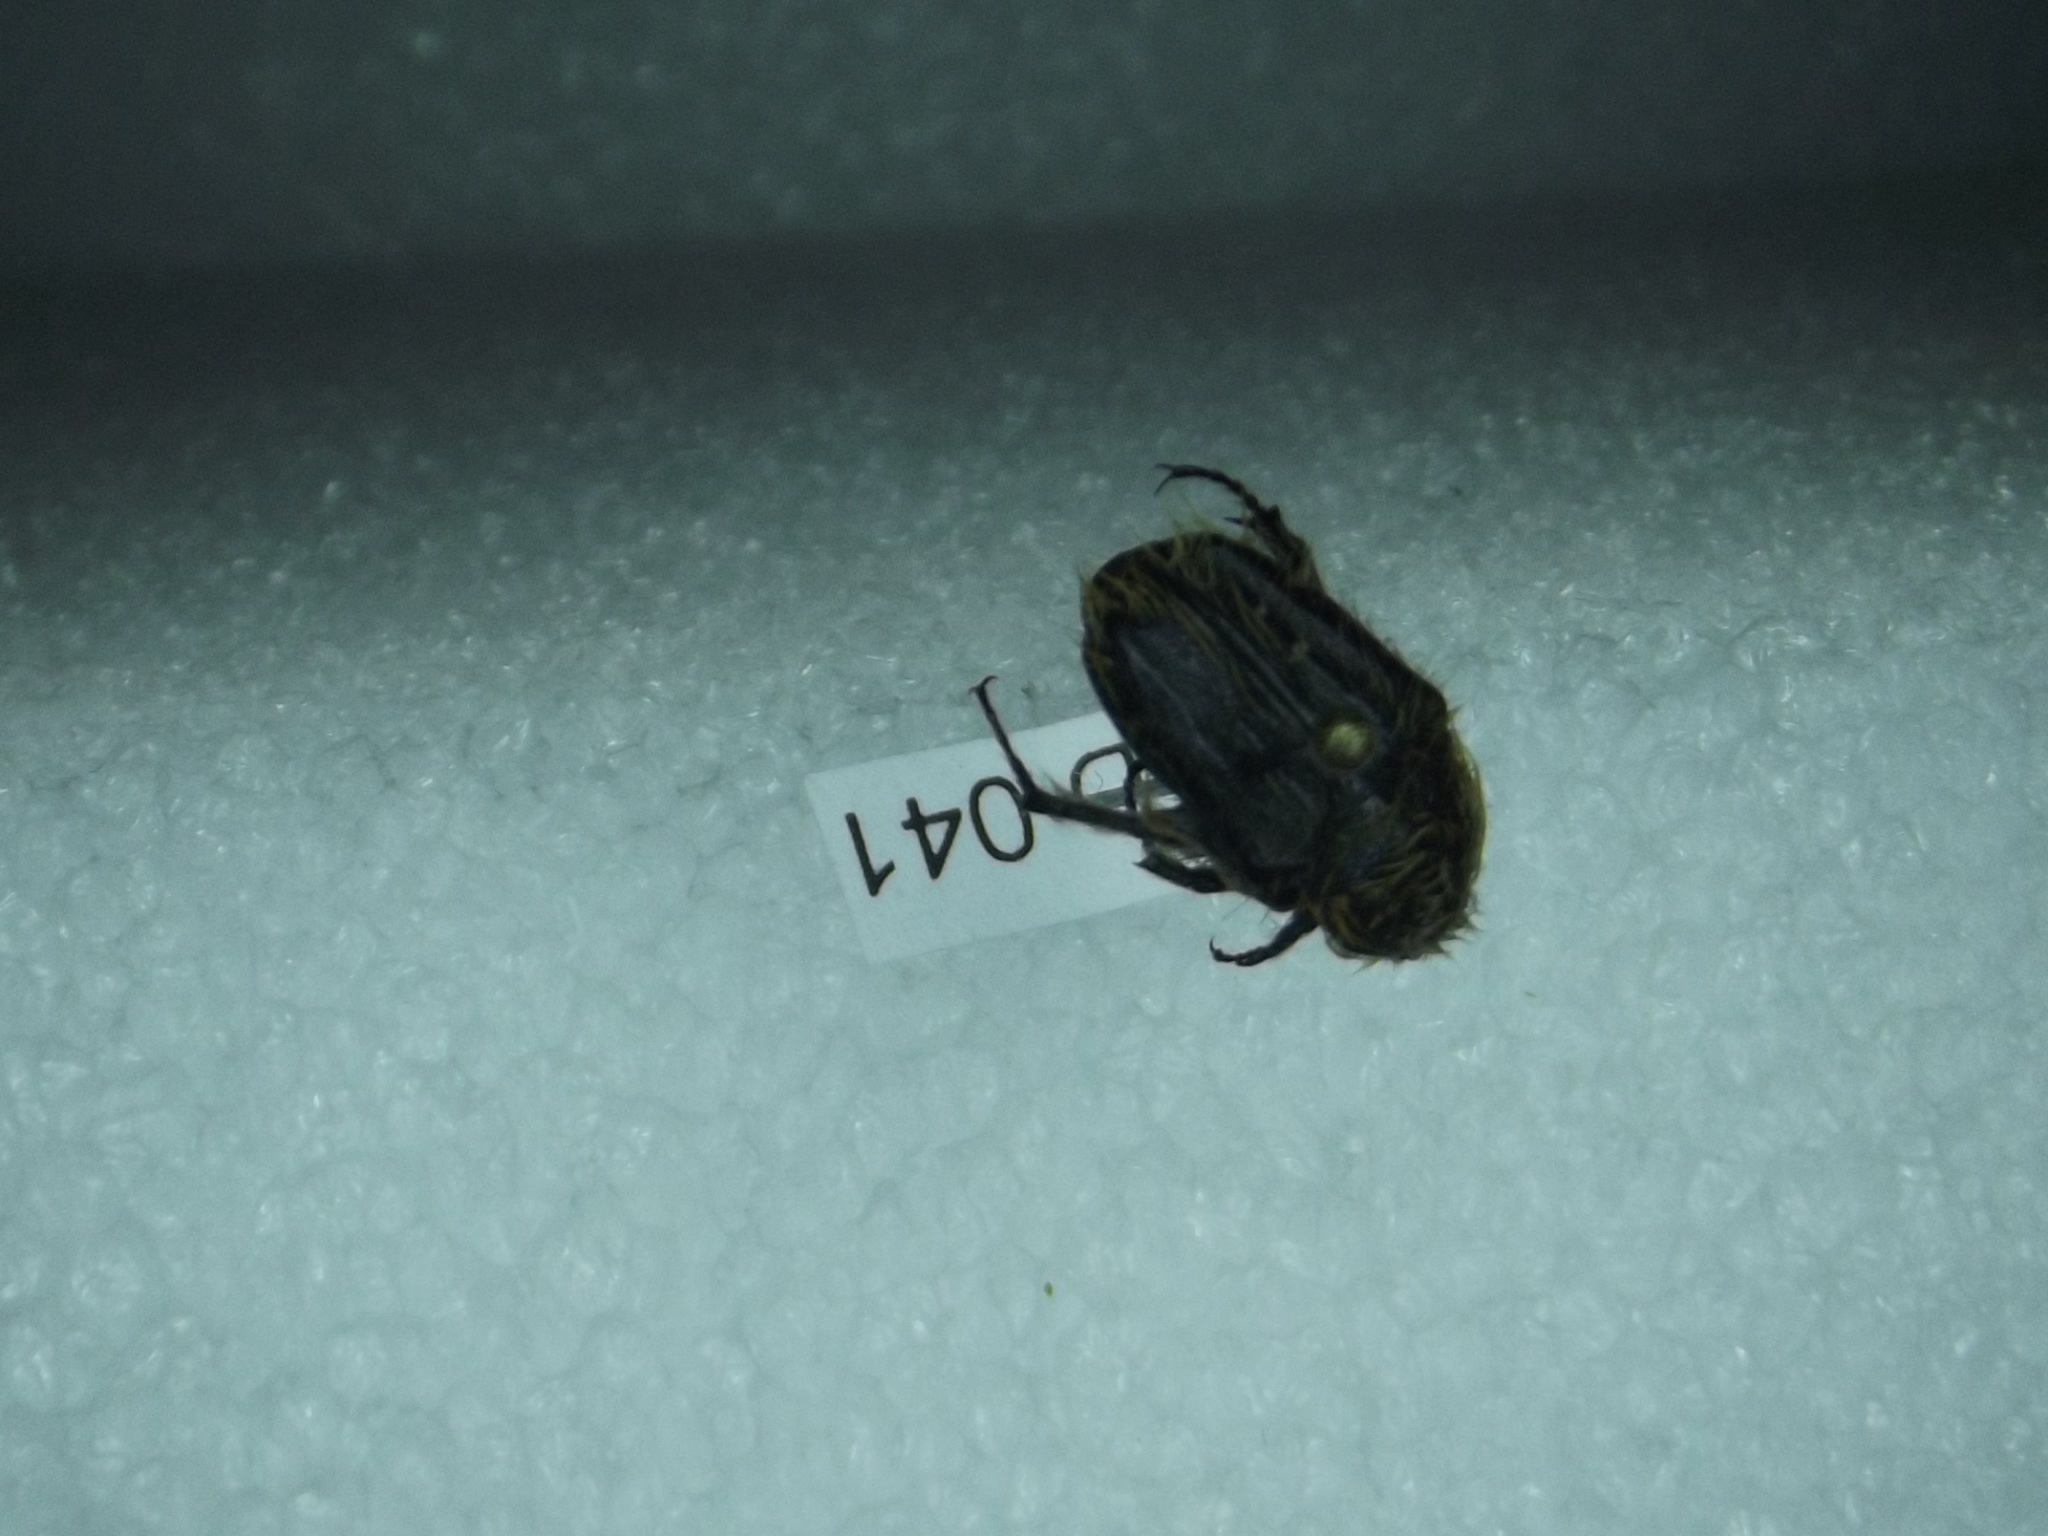Tropinota_senicula: (968, 453, 1513, 1005)
